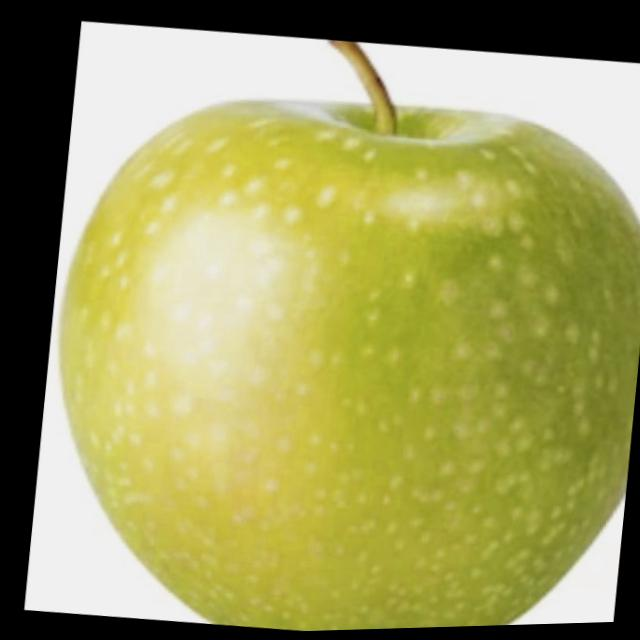Apple: (25, 8, 640, 639)
